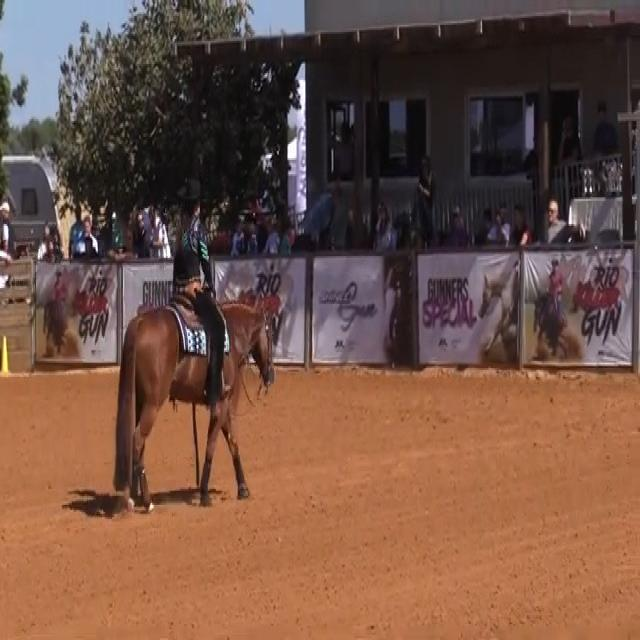horse: (110, 292, 276, 514)
